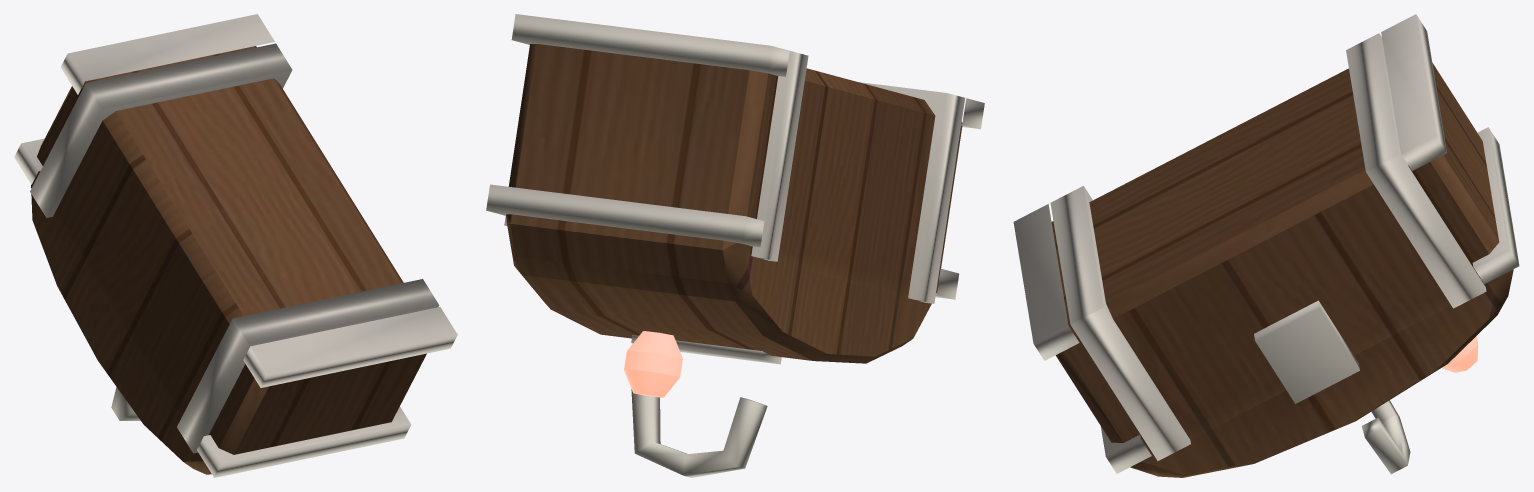
The model's file is cargo.t6.glb.
3 views of the same model, side by side, from view 1: azimuth 30°, elevation 25°; view 2: azimuth 150°, elevation 25°; view 3: azimuth 270°, elevation 25° (orthographic). The views are drawn at different scales.
Parts seen in each view (by area): view 1: courier.cargo.t6; view 2: courier.cargo.t6; view 3: courier.cargo.t6.
Boxes of the visible parts, x1,y1,x2,y2 form: courier.cargo.t6: (14, 14, 457, 477); courier.cargo.t6: (486, 14, 984, 477); courier.cargo.t6: (1013, 14, 1519, 477).
Bounding box in the file's own units: 0.2671 × 0.4255 × 0.4793.
3 materials, 2 textured.
